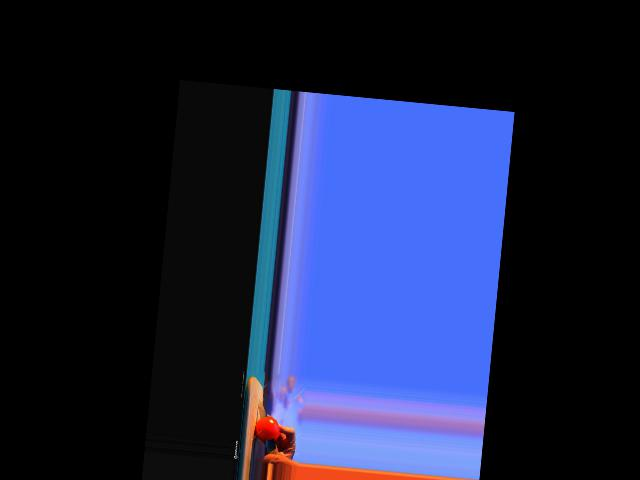tomato: (253, 414, 280, 442)
